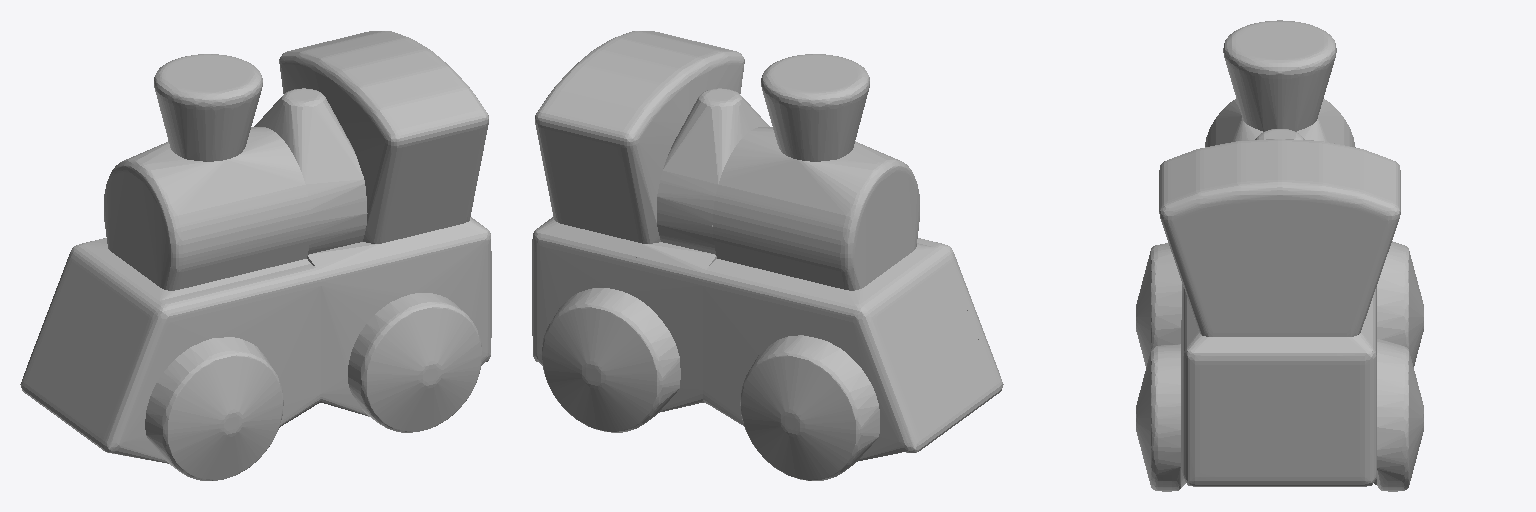
URDF robot description (root):
<robot name="root">
  <link name="object">
    <visual>
      <origin xyz="0 0 0" rpy="0 0 0"/>
      <geometry>
        <mesh filename="coacd_convex_piece_0.obj" scale="1.0000E+00 1.0000E+00 1.0000E+00"/>
      </geometry>
      <material name="">
        <color rgba="7.50E-01 7.50E-01 7.50E-01 1"/>
      </material>
    </visual>
    <collision>
      <origin xyz="0 0 0" rpy="0 0 0"/>
      <geometry>
        <mesh filename="coacd_convex_piece_0.obj" scale="1.0000E+00 1.0000E+00 1.0000E+00"/>
      </geometry>
    </collision>
    <visual>
      <origin xyz="0 0 0" rpy="0 0 0"/>
      <geometry>
        <mesh filename="coacd_convex_piece_1.obj" scale="1.0000E+00 1.0000E+00 1.0000E+00"/>
      </geometry>
      <material name="">
        <color rgba="7.50E-01 7.50E-01 7.50E-01 1"/>
      </material>
    </visual>
    <collision>
      <origin xyz="0 0 0" rpy="0 0 0"/>
      <geometry>
        <mesh filename="coacd_convex_piece_1.obj" scale="1.0000E+00 1.0000E+00 1.0000E+00"/>
      </geometry>
    </collision>
    <visual>
      <origin xyz="0 0 0" rpy="0 0 0"/>
      <geometry>
        <mesh filename="coacd_convex_piece_2.obj" scale="1.0000E+00 1.0000E+00 1.0000E+00"/>
      </geometry>
      <material name="">
        <color rgba="7.50E-01 7.50E-01 7.50E-01 1"/>
      </material>
    </visual>
    <collision>
      <origin xyz="0 0 0" rpy="0 0 0"/>
      <geometry>
        <mesh filename="coacd_convex_piece_2.obj" scale="1.0000E+00 1.0000E+00 1.0000E+00"/>
      </geometry>
    </collision>
    <visual>
      <origin xyz="0 0 0" rpy="0 0 0"/>
      <geometry>
        <mesh filename="coacd_convex_piece_3.obj" scale="1.0000E+00 1.0000E+00 1.0000E+00"/>
      </geometry>
      <material name="">
        <color rgba="7.50E-01 7.50E-01 7.50E-01 1"/>
      </material>
    </visual>
    <collision>
      <origin xyz="0 0 0" rpy="0 0 0"/>
      <geometry>
        <mesh filename="coacd_convex_piece_3.obj" scale="1.0000E+00 1.0000E+00 1.0000E+00"/>
      </geometry>
    </collision>
    <visual>
      <origin xyz="0 0 0" rpy="0 0 0"/>
      <geometry>
        <mesh filename="coacd_convex_piece_4.obj" scale="1.0000E+00 1.0000E+00 1.0000E+00"/>
      </geometry>
      <material name="">
        <color rgba="7.50E-01 7.50E-01 7.50E-01 1"/>
      </material>
    </visual>
    <collision>
      <origin xyz="0 0 0" rpy="0 0 0"/>
      <geometry>
        <mesh filename="coacd_convex_piece_4.obj" scale="1.0000E+00 1.0000E+00 1.0000E+00"/>
      </geometry>
    </collision>
    <visual>
      <origin xyz="0 0 0" rpy="0 0 0"/>
      <geometry>
        <mesh filename="coacd_convex_piece_5.obj" scale="1.0000E+00 1.0000E+00 1.0000E+00"/>
      </geometry>
      <material name="">
        <color rgba="7.50E-01 7.50E-01 7.50E-01 1"/>
      </material>
    </visual>
    <collision>
      <origin xyz="0 0 0" rpy="0 0 0"/>
      <geometry>
        <mesh filename="coacd_convex_piece_5.obj" scale="1.0000E+00 1.0000E+00 1.0000E+00"/>
      </geometry>
    </collision>
    <visual>
      <origin xyz="0 0 0" rpy="0 0 0"/>
      <geometry>
        <mesh filename="coacd_convex_piece_6.obj" scale="1.0000E+00 1.0000E+00 1.0000E+00"/>
      </geometry>
      <material name="">
        <color rgba="7.50E-01 7.50E-01 7.50E-01 1"/>
      </material>
    </visual>
    <collision>
      <origin xyz="0 0 0" rpy="0 0 0"/>
      <geometry>
        <mesh filename="coacd_convex_piece_6.obj" scale="1.0000E+00 1.0000E+00 1.0000E+00"/>
      </geometry>
    </collision>
    <visual>
      <origin xyz="0 0 0" rpy="0 0 0"/>
      <geometry>
        <mesh filename="coacd_convex_piece_7.obj" scale="1.0000E+00 1.0000E+00 1.0000E+00"/>
      </geometry>
      <material name="">
        <color rgba="7.50E-01 7.50E-01 7.50E-01 1"/>
      </material>
    </visual>
    <collision>
      <origin xyz="0 0 0" rpy="0 0 0"/>
      <geometry>
        <mesh filename="coacd_convex_piece_7.obj" scale="1.0000E+00 1.0000E+00 1.0000E+00"/>
      </geometry>
    </collision>
    <visual>
      <origin xyz="0 0 0" rpy="0 0 0"/>
      <geometry>
        <mesh filename="coacd_convex_piece_8.obj" scale="1.0000E+00 1.0000E+00 1.0000E+00"/>
      </geometry>
      <material name="">
        <color rgba="7.50E-01 7.50E-01 7.50E-01 1"/>
      </material>
    </visual>
    <collision>
      <origin xyz="0 0 0" rpy="0 0 0"/>
      <geometry>
        <mesh filename="coacd_convex_piece_8.obj" scale="1.0000E+00 1.0000E+00 1.0000E+00"/>
      </geometry>
    </collision>
    <visual>
      <origin xyz="0 0 0" rpy="0 0 0"/>
      <geometry>
        <mesh filename="coacd_convex_piece_9.obj" scale="1.0000E+00 1.0000E+00 1.0000E+00"/>
      </geometry>
      <material name="">
        <color rgba="7.50E-01 7.50E-01 7.50E-01 1"/>
      </material>
    </visual>
    <collision>
      <origin xyz="0 0 0" rpy="0 0 0"/>
      <geometry>
        <mesh filename="coacd_convex_piece_9.obj" scale="1.0000E+00 1.0000E+00 1.0000E+00"/>
      </geometry>
    </collision>
    <visual>
      <origin xyz="0 0 0" rpy="0 0 0"/>
      <geometry>
        <mesh filename="coacd_convex_piece_10.obj" scale="1.0000E+00 1.0000E+00 1.0000E+00"/>
      </geometry>
      <material name="">
        <color rgba="7.50E-01 7.50E-01 7.50E-01 1"/>
      </material>
    </visual>
    <collision>
      <origin xyz="0 0 0" rpy="0 0 0"/>
      <geometry>
        <mesh filename="coacd_convex_piece_10.obj" scale="1.0000E+00 1.0000E+00 1.0000E+00"/>
      </geometry>
    </collision>
    <visual>
      <origin xyz="0 0 0" rpy="0 0 0"/>
      <geometry>
        <mesh filename="coacd_convex_piece_11.obj" scale="1.0000E+00 1.0000E+00 1.0000E+00"/>
      </geometry>
      <material name="">
        <color rgba="7.50E-01 7.50E-01 7.50E-01 1"/>
      </material>
    </visual>
    <collision>
      <origin xyz="0 0 0" rpy="0 0 0"/>
      <geometry>
        <mesh filename="coacd_convex_piece_11.obj" scale="1.0000E+00 1.0000E+00 1.0000E+00"/>
      </geometry>
    </collision>
    <visual>
      <origin xyz="0 0 0" rpy="0 0 0"/>
      <geometry>
        <mesh filename="coacd_convex_piece_12.obj" scale="1.0000E+00 1.0000E+00 1.0000E+00"/>
      </geometry>
      <material name="">
        <color rgba="7.50E-01 7.50E-01 7.50E-01 1"/>
      </material>
    </visual>
    <collision>
      <origin xyz="0 0 0" rpy="0 0 0"/>
      <geometry>
        <mesh filename="coacd_convex_piece_12.obj" scale="1.0000E+00 1.0000E+00 1.0000E+00"/>
      </geometry>
    </collision>
    <visual>
      <origin xyz="0 0 0" rpy="0 0 0"/>
      <geometry>
        <mesh filename="coacd_convex_piece_13.obj" scale="1.0000E+00 1.0000E+00 1.0000E+00"/>
      </geometry>
      <material name="">
        <color rgba="7.50E-01 7.50E-01 7.50E-01 1"/>
      </material>
    </visual>
    <collision>
      <origin xyz="0 0 0" rpy="0 0 0"/>
      <geometry>
        <mesh filename="coacd_convex_piece_13.obj" scale="1.0000E+00 1.0000E+00 1.0000E+00"/>
      </geometry>
    </collision>
  </link>
</robot>

--- What the picture shows (computed from the rendered views, not written in the file) ---
The picture shows the robot from 3 angles, left to right: view 1: azimuth 30°, elevation 25°; view 2: azimuth 150°, elevation 25°; view 3: azimuth 270°, elevation 25°; orthographic projection.
Model root with 1 links and 0 joints (none), rooted at object, posed all joints at 0.
Links seen in each view (by area): view 1: object; view 2: object; view 3: object.
Boxes of the visible links, x1,y1,x2,y2 form: object: (20, 31, 491, 480); object: (532, 31, 1003, 480); object: (1136, 20, 1423, 491).
Size in the robot's own frame: 0.0979 by 0.0608 by 0.0853 metres.
14 mesh visuals loaded from 14 distinct referenced files (14 OBJ).
